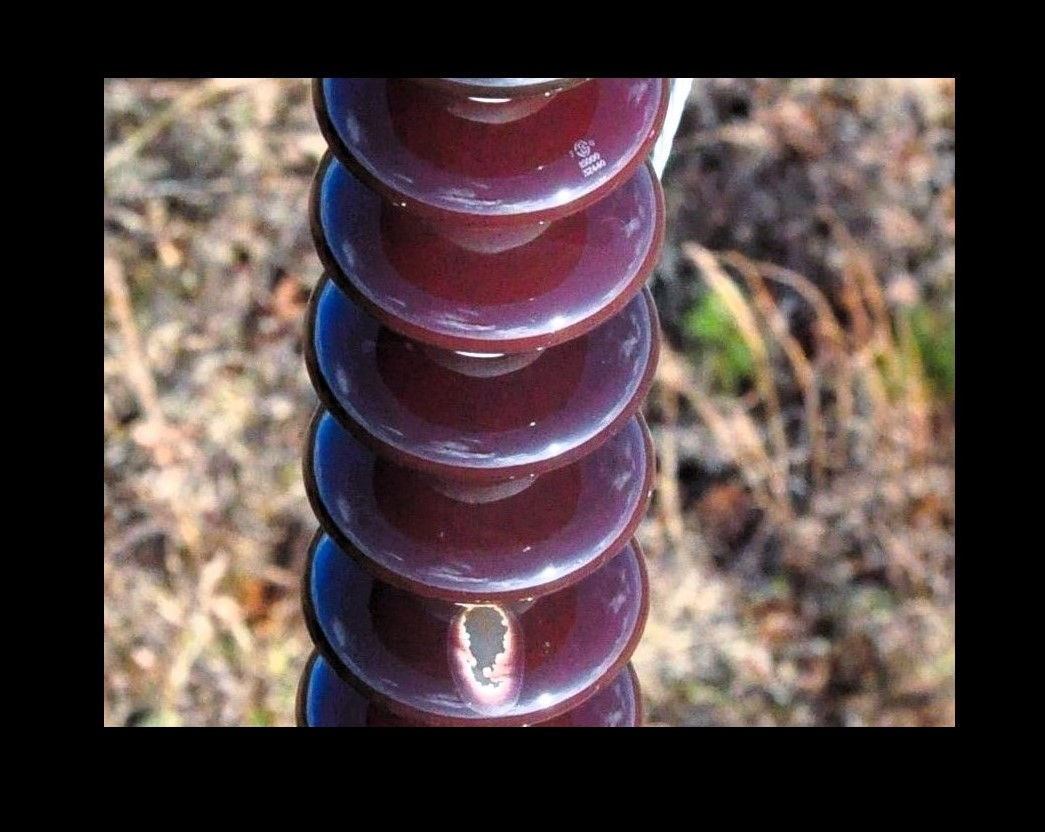Insulator flashover: (290, 523, 663, 734)
